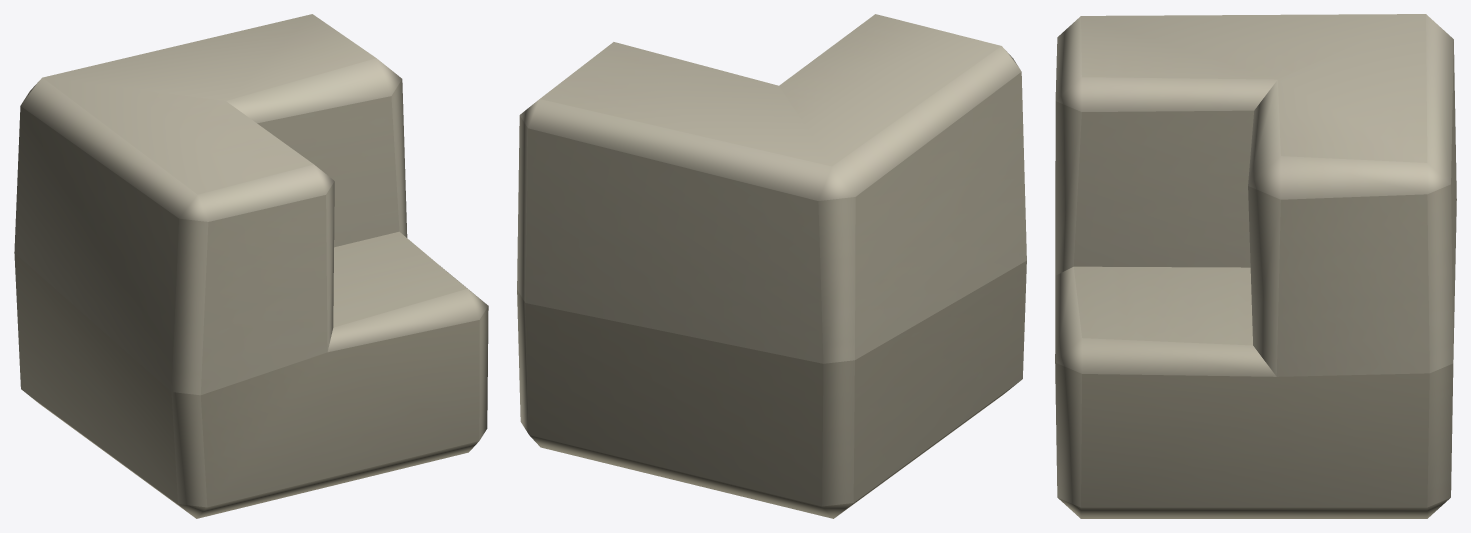
Rendered from orc_stair_corner_conc_shade_1.fbx.
3 renders of one model, left to right at view 1: azimuth 30°, elevation 25°; view 2: azimuth 150°, elevation 25°; view 3: azimuth 270°, elevation 25°, orthographic. The views are drawn at different scales.
Parts seen in each view (by area): view 1: orc_stair_corner_conc_shade1; view 2: orc_stair_corner_conc_shade1; view 3: orc_stair_corner_conc_shade1.
Boxes of the visible parts, x1,y1,x2,y2 form: orc_stair_corner_conc_shade1: (14, 14, 488, 518); orc_stair_corner_conc_shade1: (517, 14, 1026, 518); orc_stair_corner_conc_shade1: (1055, 14, 1456, 518).
Bounding box in the file's own units: 52.26 × 50.74 × 51.02.
